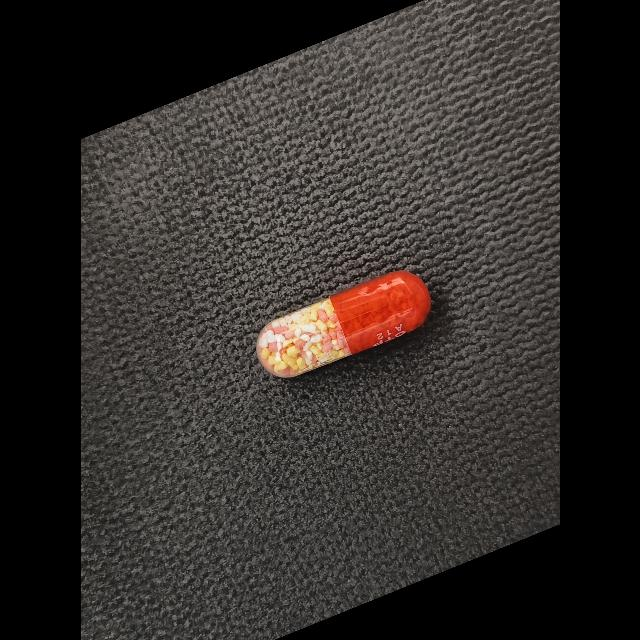Intact Capsule: (256, 271, 431, 377)
